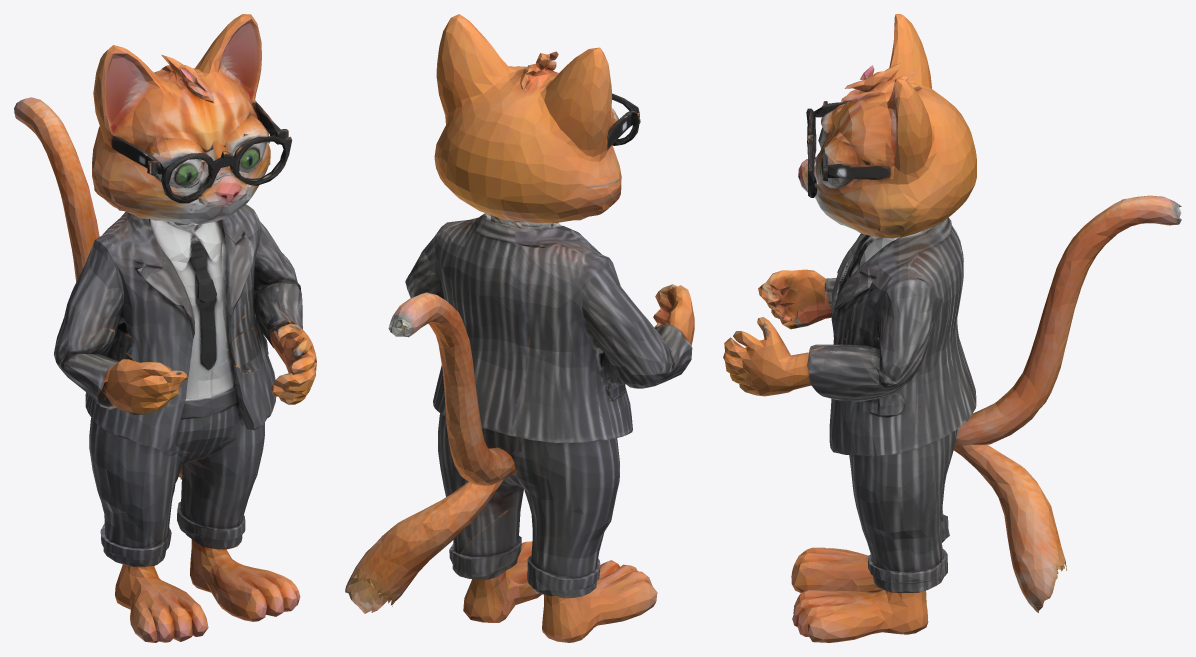
File: ow_poly_dr_tabyy_meo_0517103344_texture.fbx
3 renders of one model, left to right at view 1: azimuth 30°, elevation 25°; view 2: azimuth 150°, elevation 25°; view 3: azimuth 270°, elevation 25°, orthographic. The views are drawn at different scales.
Visible parts, largest first — view 1: temp; view 2: temp; view 3: temp.
Boxes of the visible parts, x1,y1,x2,y2 form: temp: (14,14,316,642); temp: (345,14,694,642); temp: (723,14,1181,642).
Size of the model in its own units: 89.59 by 199 by 147.
Materials: 1 (1 with a texture image).
